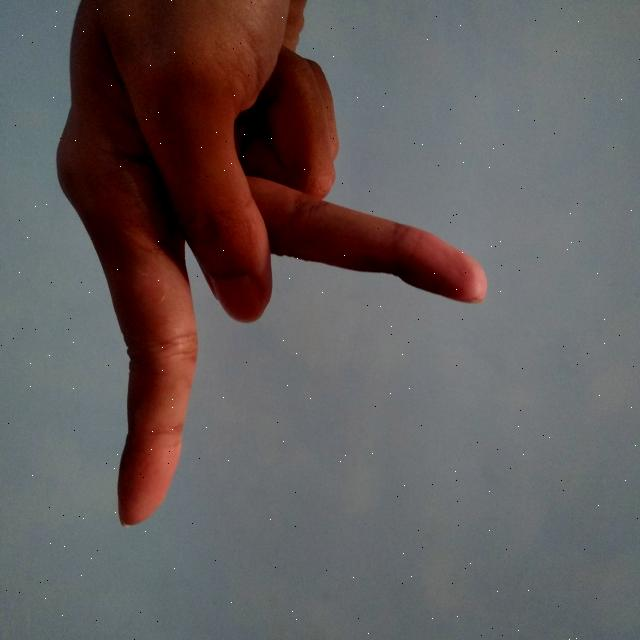P: (51, 0, 508, 538)
